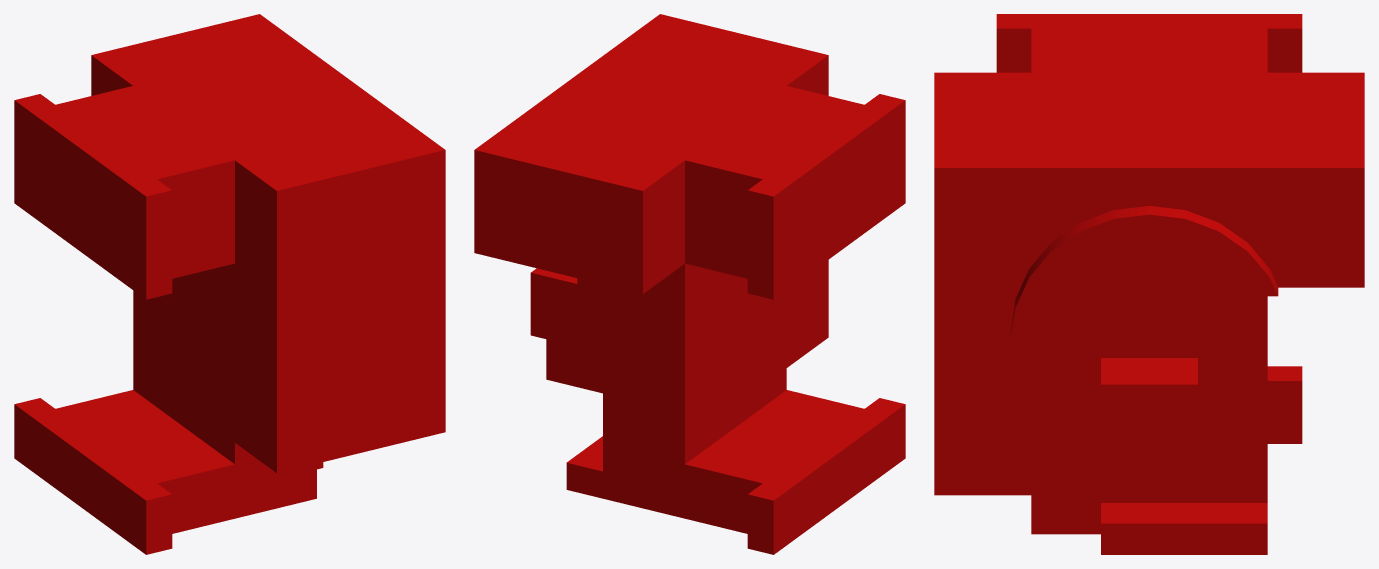
File: tool_holder_bracket.dae
3 views of the same model, side by side, from view 1: azimuth 30°, elevation 25°; view 2: azimuth 150°, elevation 25°; view 3: azimuth 270°, elevation 25° (orthographic). The views are drawn at different scales.
Visible parts, largest first — view 1: Werkzeugträger_4; view 2: Werkzeugträger_4; view 3: Werkzeugträger_4.
Boxes of the visible parts, bbox=[...] form: Werkzeugträger_4: bbox=[14, 14, 445, 554]; Werkzeugträger_4: bbox=[474, 14, 905, 554]; Werkzeugträger_4: bbox=[934, 14, 1364, 554].
Bounding box in the file's own units: 2.19 × 2.44 × 2.6.
